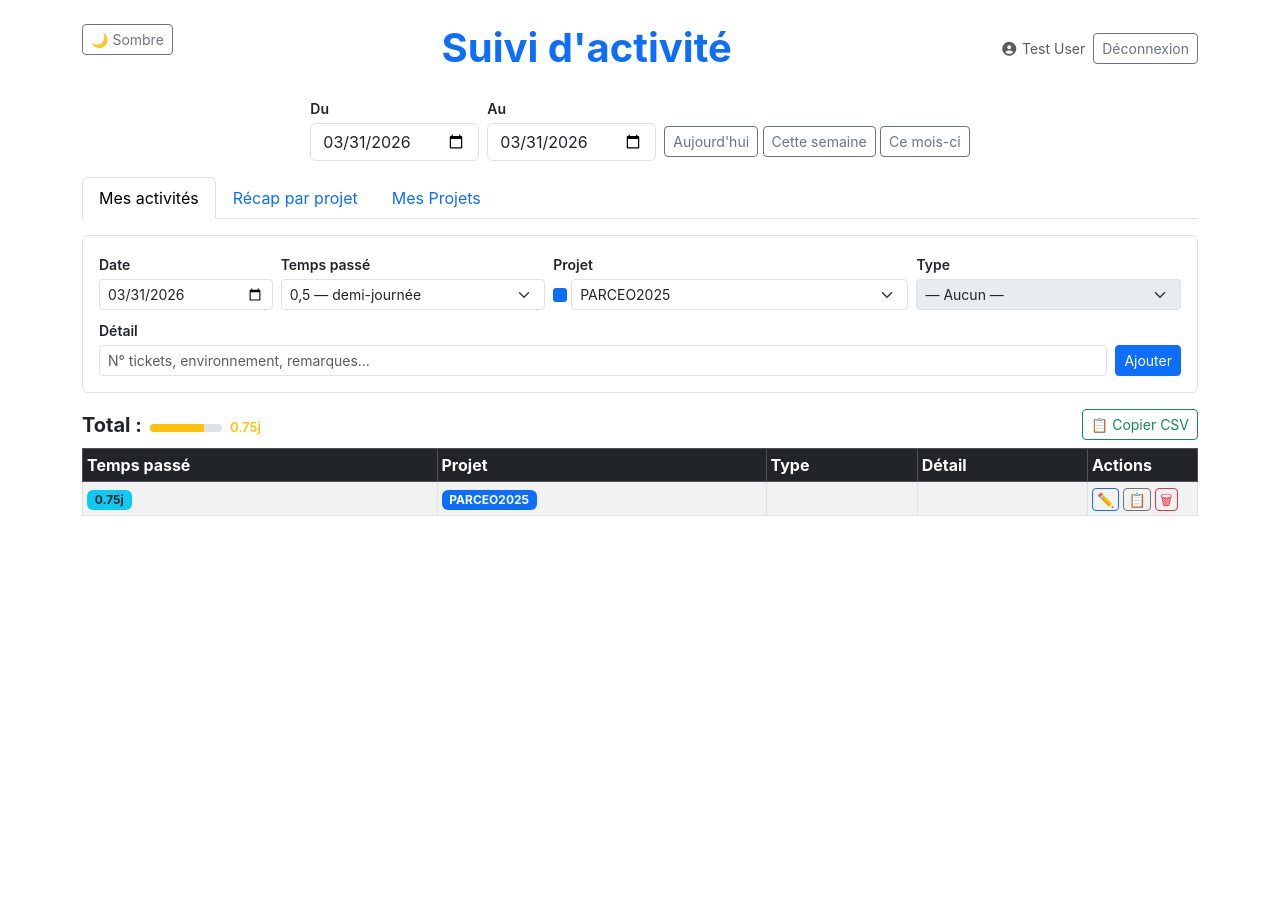
Test case: Alerte dépassement journalier — interface › n enregistre pas l activite si on annule
This screenshot has width=1280, height=900.
Step 1. Click the button "Ajouter" → (1148, 360), box [1115,345,1181,376]
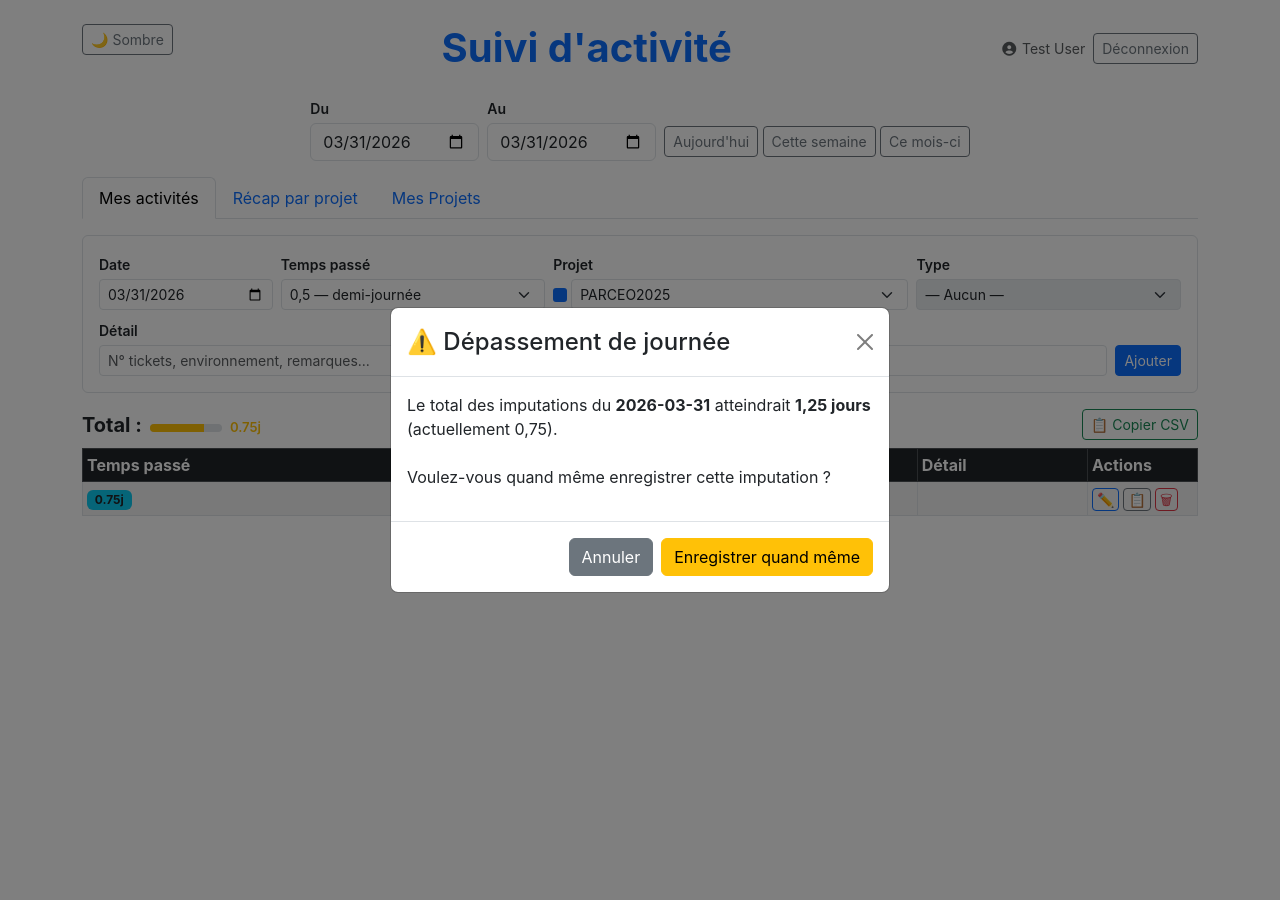
Expected: the text "⚠️ Dépassement de journée" is shown, [407,324,730,360]
Step 2. Click the button "Annuler" → (611, 557), box [568,538,653,576]
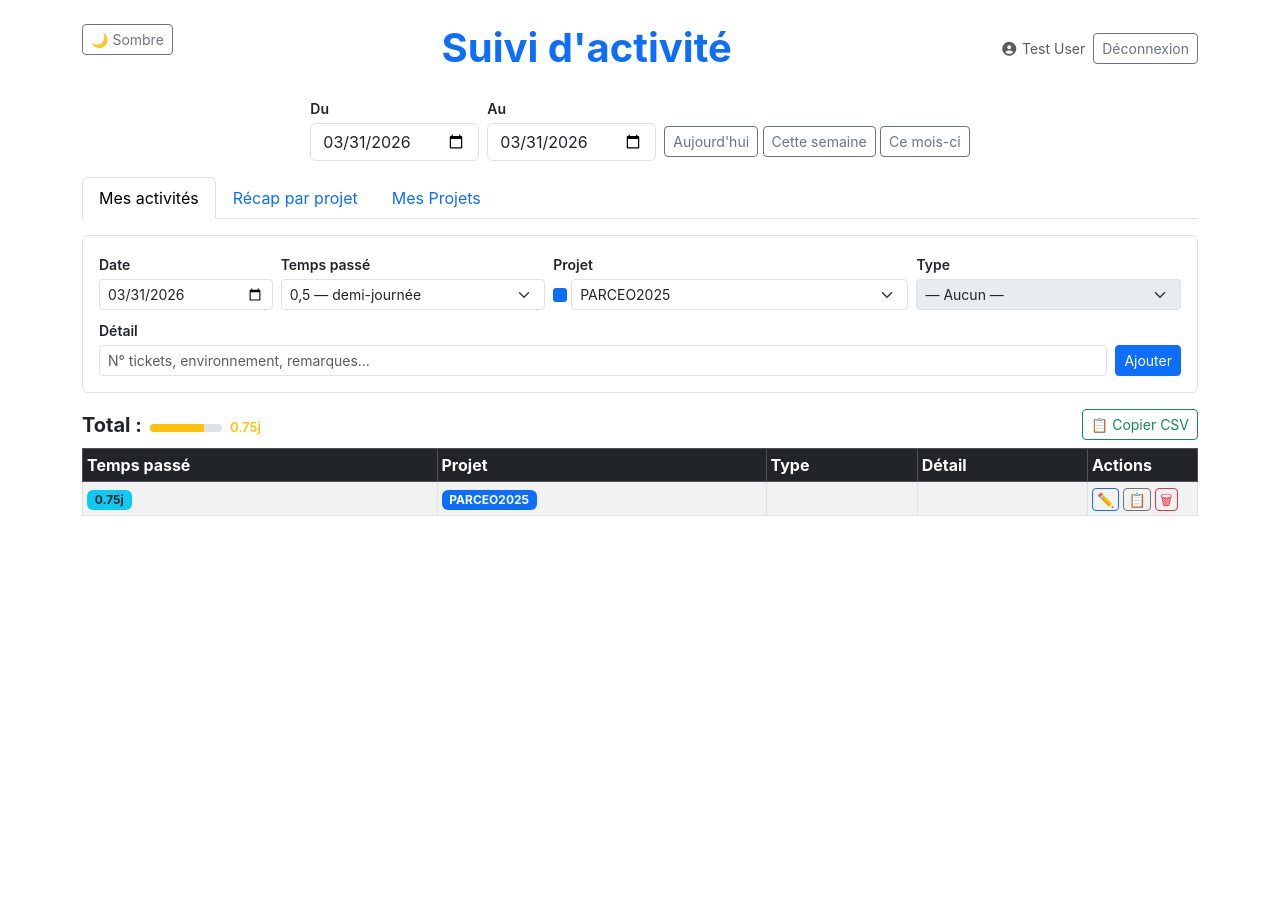
Expected: the text "⚠️ Dépassement de journée" is gone
